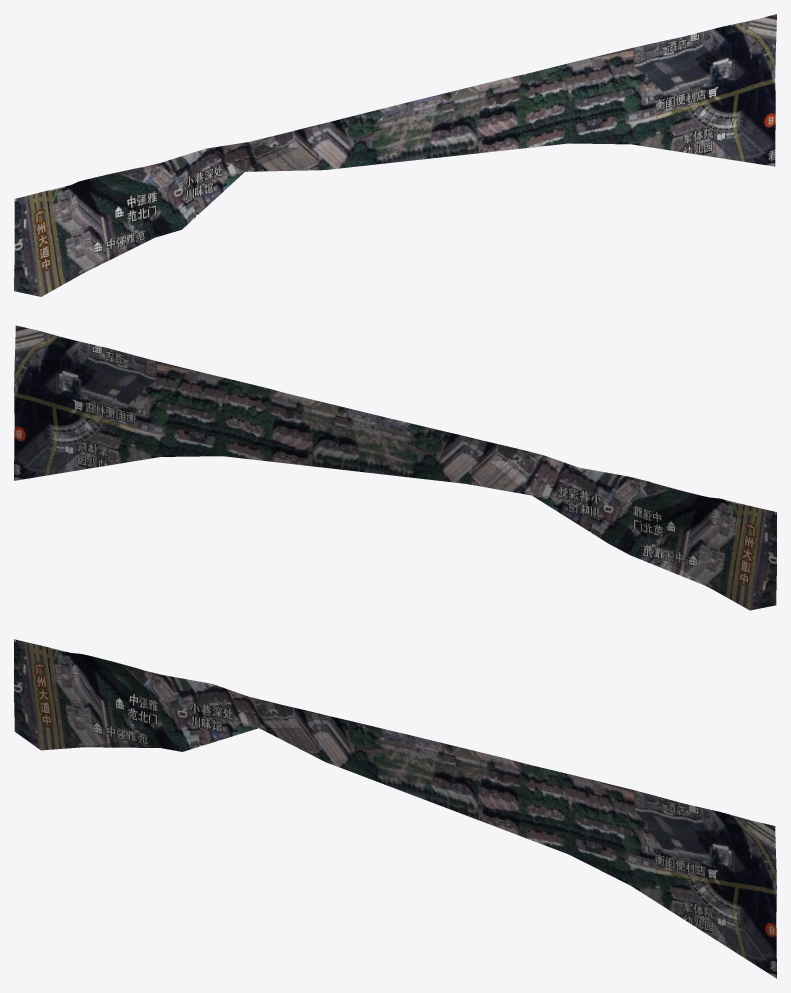
The picture shows the model from 3 angles, top to bottom: view 1: azimuth 30°, elevation 25°; view 2: azimuth 150°, elevation 25°; view 3: azimuth 330°, elevation 25°; orthographic projection.
Parts seen in each view (by area): view 1: 0_1_3_1_0; view 2: 0_1_3_1_0; view 3: 0_1_3_1_0.
Boxes of the visible parts, x1,y1,x2,y2 form: 0_1_3_1_0: [14, 14, 776, 296]; 0_1_3_1_0: [14, 325, 776, 610]; 0_1_3_1_0: [14, 639, 776, 978].
Bounding box in the file's own units: 972 × 188 × 19.04.
Materials: 1 (1 with a texture image).
